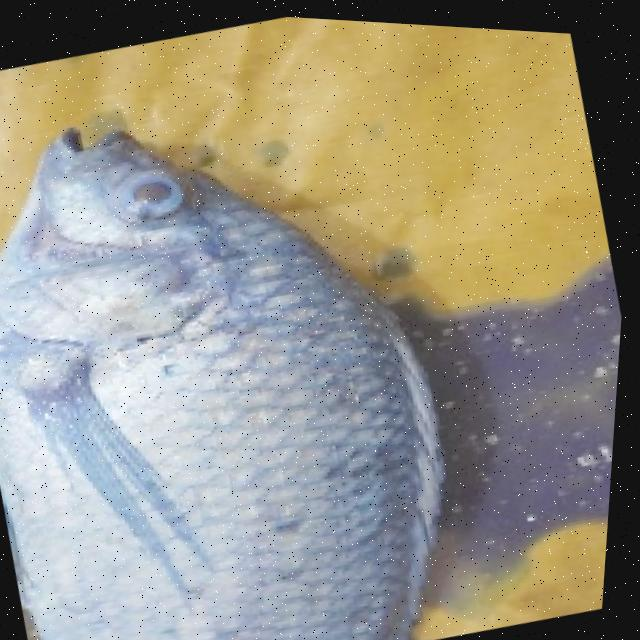Non-Fresh: (0, 40, 519, 640), (98, 141, 198, 240)
